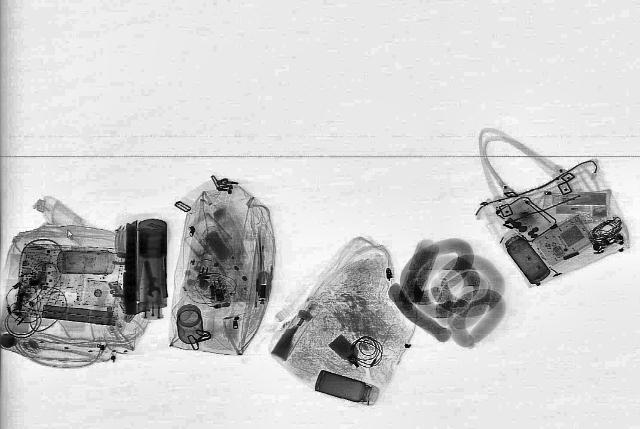Wrench: (136, 260, 162, 298)
